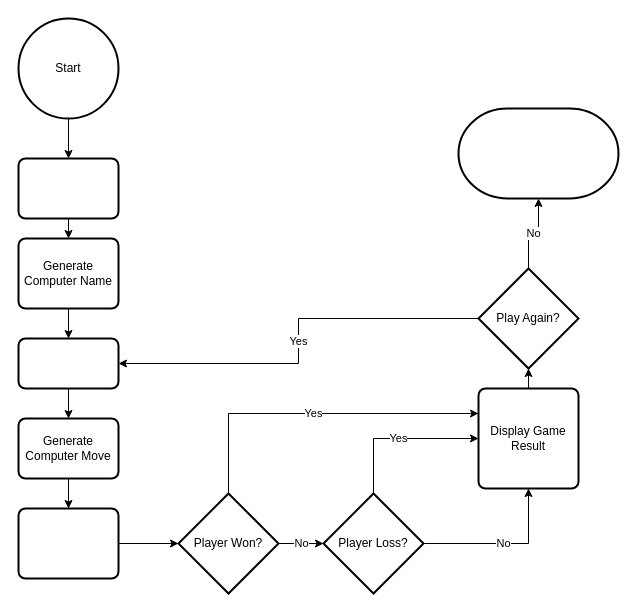
Some shapes in this 636 by 611 pixel diagram are drawn without their labels. The centre of each missing label's shape, as x and y in pixels:
"Calculate Result" belongs at point 68,543.
"Display Final Win/Loss/Tie Goodbye!" belongs at point 538,153.
"Get Player Move" belongs at point 68,363.
"Get Player Name" belongs at point 68,188.
